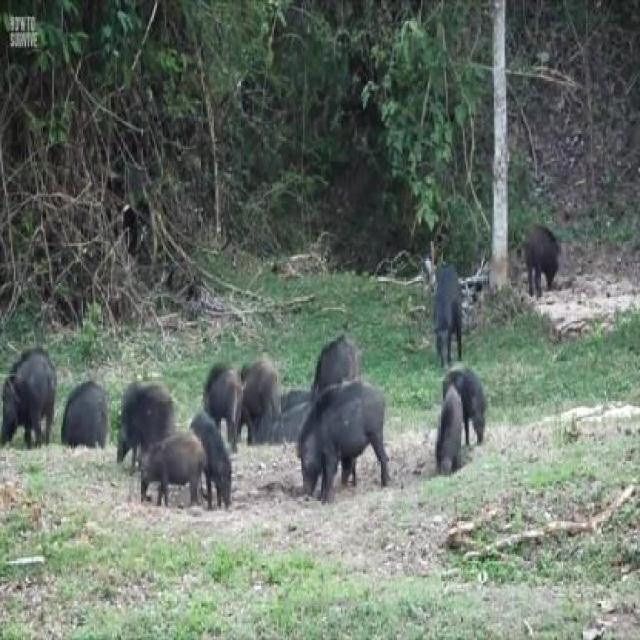pig: (286, 372, 392, 508), (0, 316, 66, 470), (124, 408, 203, 514), (57, 354, 118, 446), (420, 229, 465, 350), (517, 214, 578, 295), (202, 384, 239, 514), (114, 377, 174, 455), (300, 318, 365, 384), (443, 344, 489, 432), (237, 343, 271, 455), (202, 332, 236, 437), (434, 368, 462, 480)
